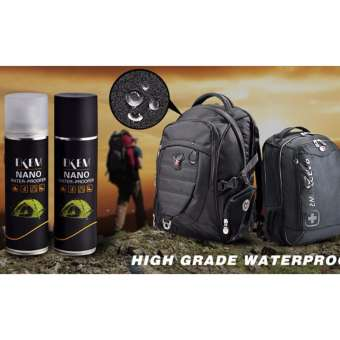Aerosol_cans: (52, 90, 99, 257), (2, 91, 49, 256)
